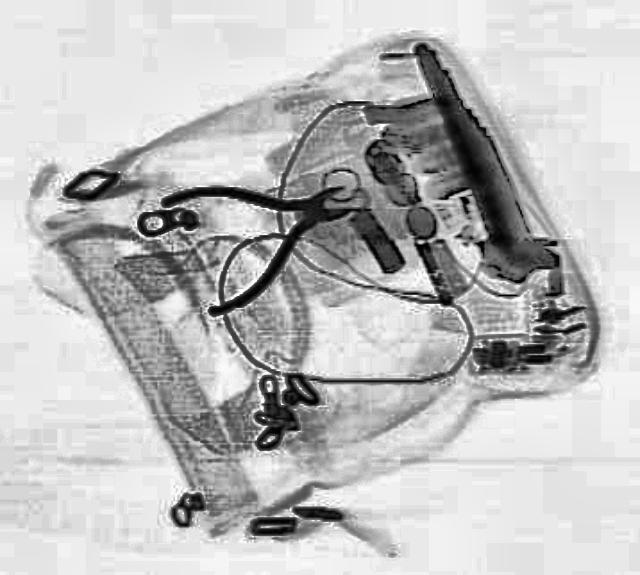Pliers: (154, 145, 376, 313)
